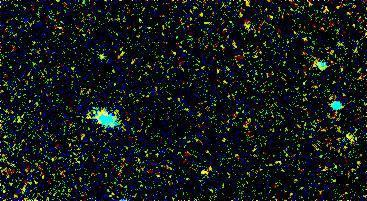star: (85, 42, 115, 72)
